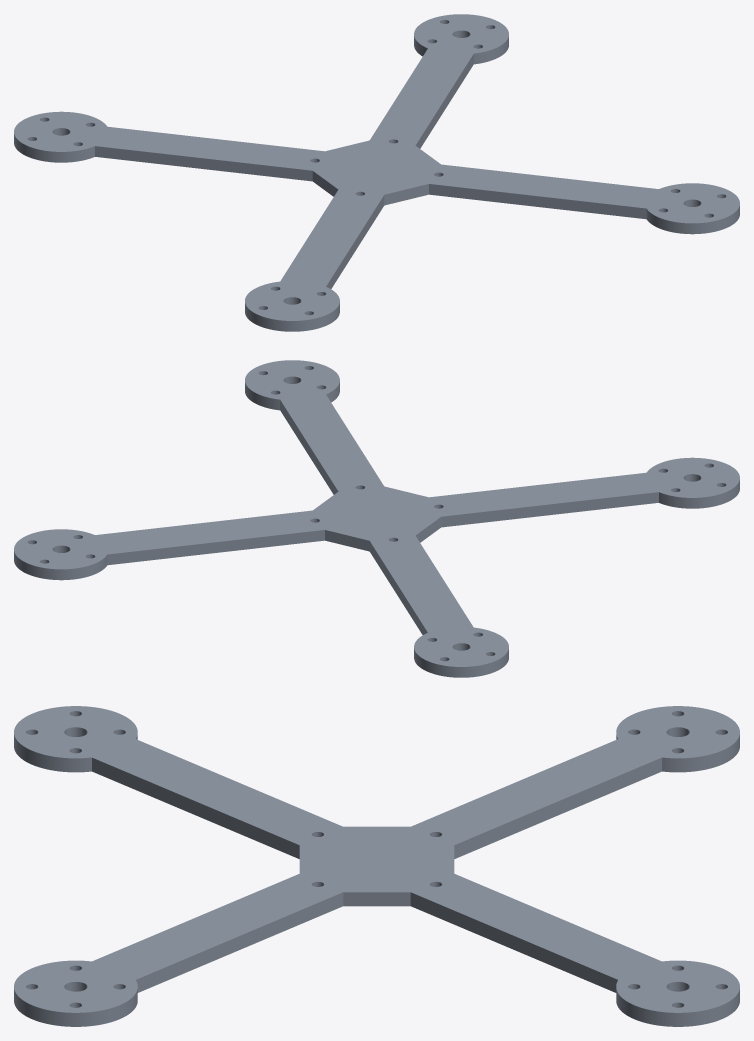
The model's file is step-3.glb.
3 views of the same model, one above another, from view 1: azimuth 30°, elevation 25°; view 2: azimuth 150°, elevation 25°; view 3: azimuth 270°, elevation 25° (orthographic). The views are drawn at different scales.
Visible parts, largest first — view 1: face_a2fb810cd0990c1fd8f8, face_65c66fe1e0937397a9d0, face_c3da73c9c2f5c6b37184, face_99aa3a414971a8e10236, face_3936b62e6fa0d3e30a5a, face_dd56d3a8a9a30ec413dd, face_de8c72e43f954061460f, face_6d05d407728fafc427f5, face_8e73c7c34ffd2414a018; view 2: face_a2fb810cd0990c1fd8f8, face_3533421d171926b4baed, face_e3d30ccce09407a87e97, face_dd56d3a8a9a30ec413dd, face_8e73c7c34ffd2414a018, face_99aa3a414971a8e10236, face_111ebc612d3cc0528e19, face_08830a98a8640858c9c0, face_3936b62e6fa0d3e30a5a; view 3: face_a2fb810cd0990c1fd8f8, face_08830a98a8640858c9c0, face_6d05d407728fafc427f5, face_de8c72e43f954061460f, face_111ebc612d3cc0528e19, face_8e73c7c34ffd2414a018, face_3936b62e6fa0d3e30a5a, face_dd56d3a8a9a30ec413dd, face_99aa3a414971a8e10236, face_0c192ddcb180af72bbb7.
Part boxes in pixels (x1,y1,x2,y2): face_a2fb810cd0990c1fd8f8: (14,14,739,320); face_65c66fe1e0937397a9d0: (429,184,646,219); face_c3da73c9c2f5c6b37184: (95,146,312,181); face_99aa3a414971a8e10236: (245,302,339,331); face_3936b62e6fa0d3e30a5a: (646,205,739,234); face_dd56d3a8a9a30ec413dd: (14,134,94,162); face_de8c72e43f954061460f: (415,54,473,148); face_6d05d407728fafc427f5: (326,195,384,288); face_8e73c7c34ffd2414a018: (414,36,508,64); face_a2fb810cd0990c1fd8f8: (14,360,739,666); face_3533421d171926b4baed: (107,530,324,565); face_e3d30ccce09407a87e97: (441,492,658,527); face_dd56d3a8a9a30ec413dd: (414,648,508,677); face_8e73c7c34ffd2414a018: (14,551,107,580); face_99aa3a414971a8e10236: (659,480,739,508); face_111ebc612d3cc0528e19: (280,400,338,494); face_08830a98a8640858c9c0: (369,541,427,634); face_3936b62e6fa0d3e30a5a: (245,382,339,410); face_a2fb810cd0990c1fd8f8: (14,706,739,1012); face_08830a98a8640858c9c0: (454,757,661,858); face_6d05d407728fafc427f5: (92,757,299,858); face_de8c72e43f954061460f: (410,892,617,992); face_111ebc612d3cc0528e19: (136,892,343,992); face_8e73c7c34ffd2414a018: (616,989,739,1026); face_3936b62e6fa0d3e30a5a: (14,989,137,1026); face_dd56d3a8a9a30ec413dd: (616,734,739,772); face_99aa3a414971a8e10236: (14,734,137,772); face_0c192ddcb180af72bbb7: (343,892,410,906).
Size of the model in its own units: 0.1875 by 0.004 by 0.1875.
